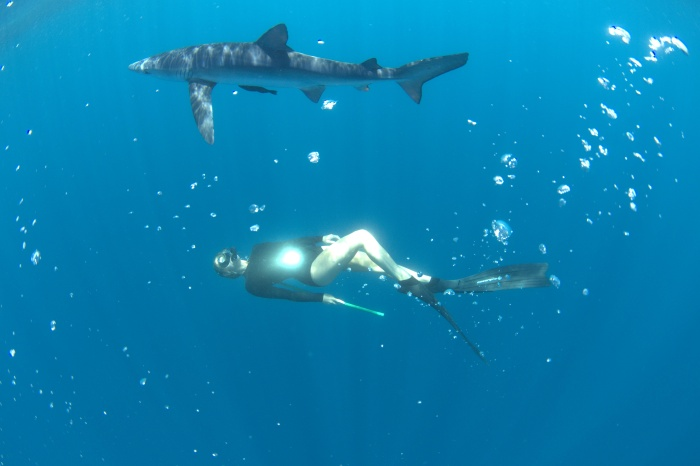Azul: (107, 10, 482, 156)
